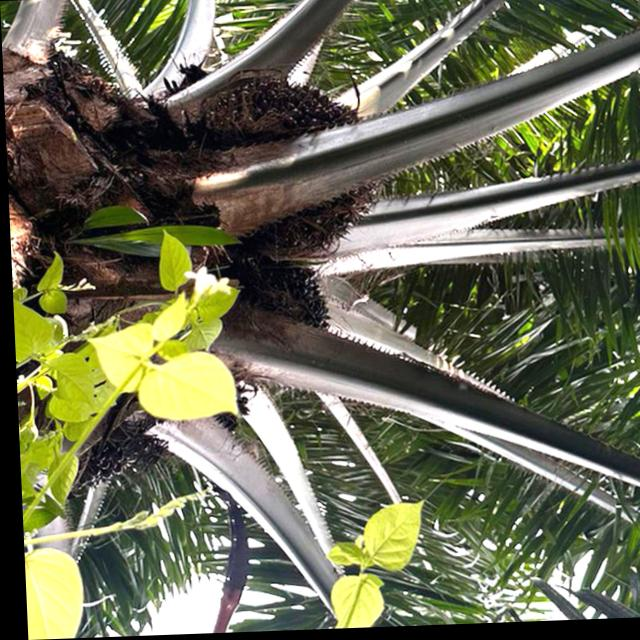unripe: (226, 252, 336, 362)
